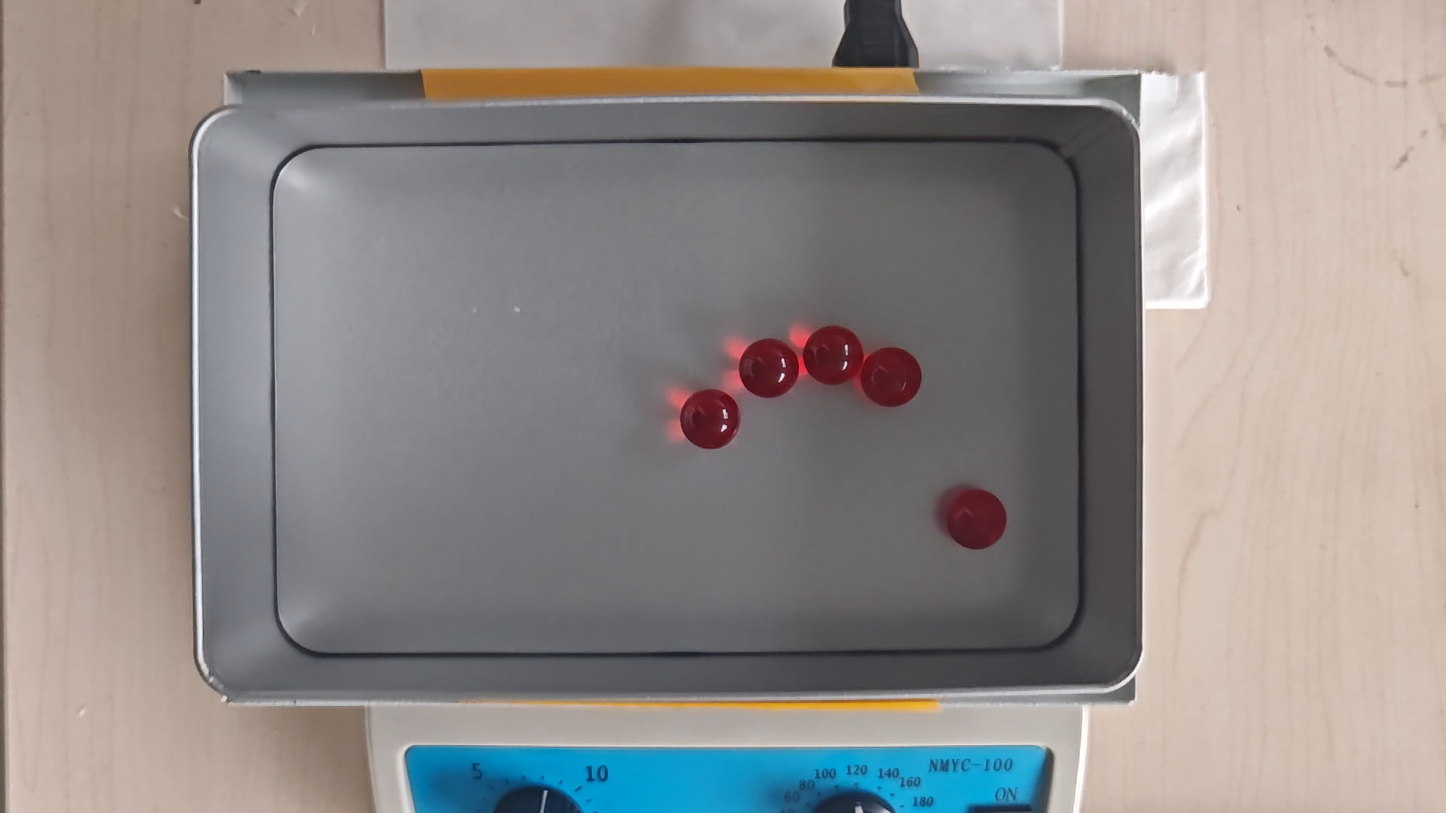ball: (941, 484, 1008, 551), (804, 324, 864, 386), (860, 347, 921, 407), (740, 337, 797, 400), (681, 391, 739, 449)
container: (267, 139, 1079, 653)
